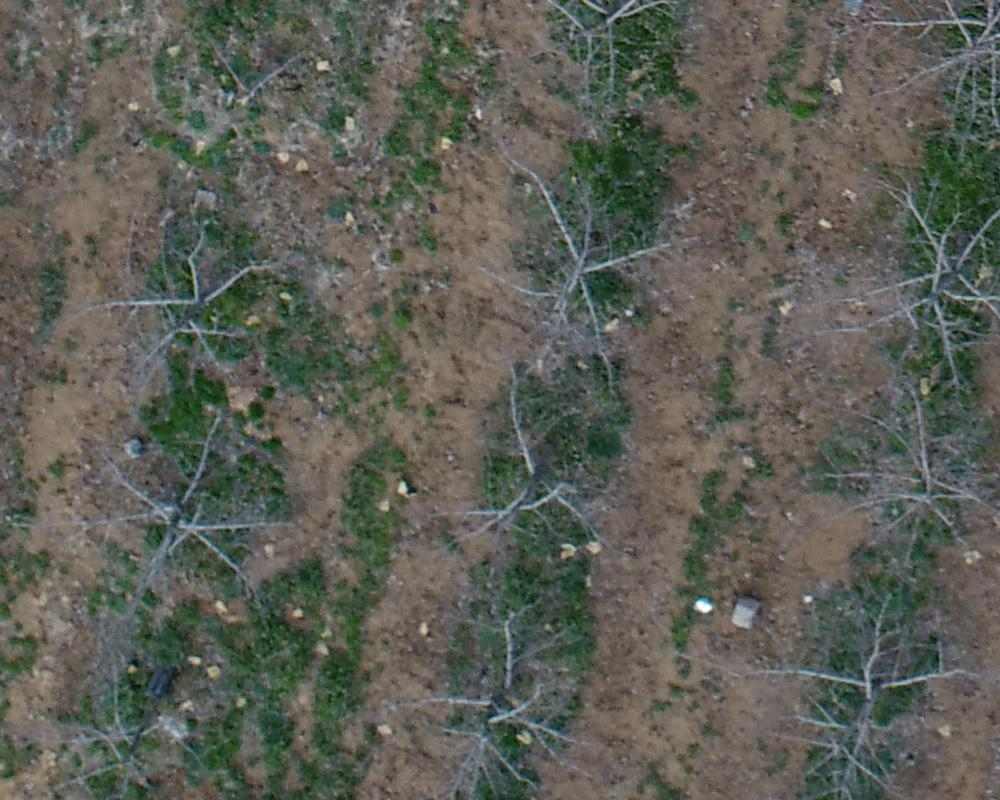apple: (735, 593, 990, 790), (60, 411, 293, 616), (488, 138, 679, 378), (420, 361, 629, 579), (390, 596, 621, 790), (820, 157, 990, 392), (64, 221, 288, 392), (830, 390, 990, 573), (497, 10, 715, 110), (40, 657, 203, 790), (171, 17, 329, 136)
